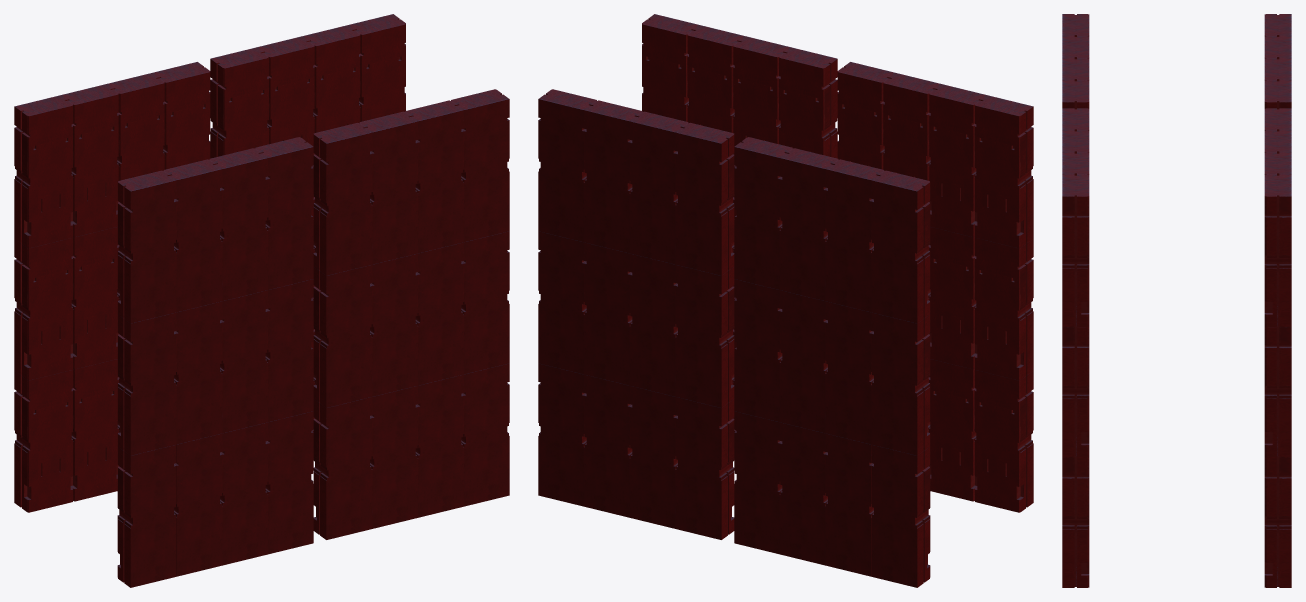
The model's file is Blame_Hall.001.fbx.
3 renders of one model, left to right at view 1: azimuth 30°, elevation 25°; view 2: azimuth 150°, elevation 25°; view 3: azimuth 270°, elevation 25°, orthographic.
Parts seen in each view (by area): view 1: Blame_Hall.001; view 2: Blame_Hall.001; view 3: Blame_Hall.001.
Boxes of the visible parts, bbox=[...] form: Blame_Hall.001: bbox=[14, 14, 509, 587]; Blame_Hall.001: bbox=[538, 14, 1033, 587]; Blame_Hall.001: bbox=[1062, 14, 1291, 587].
Size of the model in its own units: 50000 by 50000 by 26552.
Materials: 1 (1 with a texture image).
